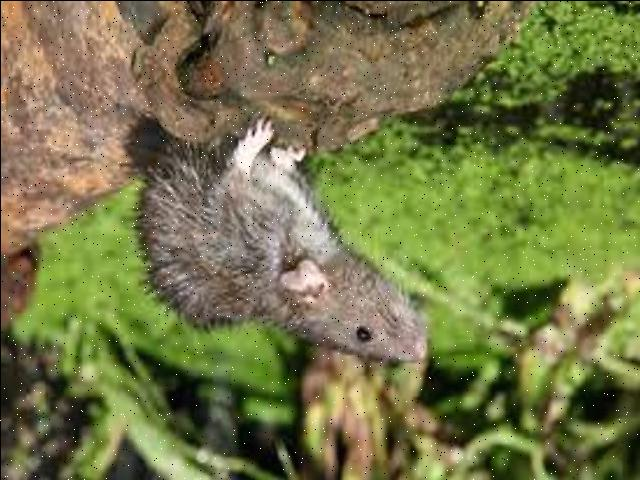Tikus: (138, 123, 428, 363)
